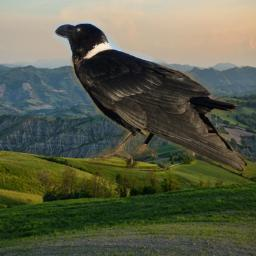Crow: (52, 18, 247, 172)
